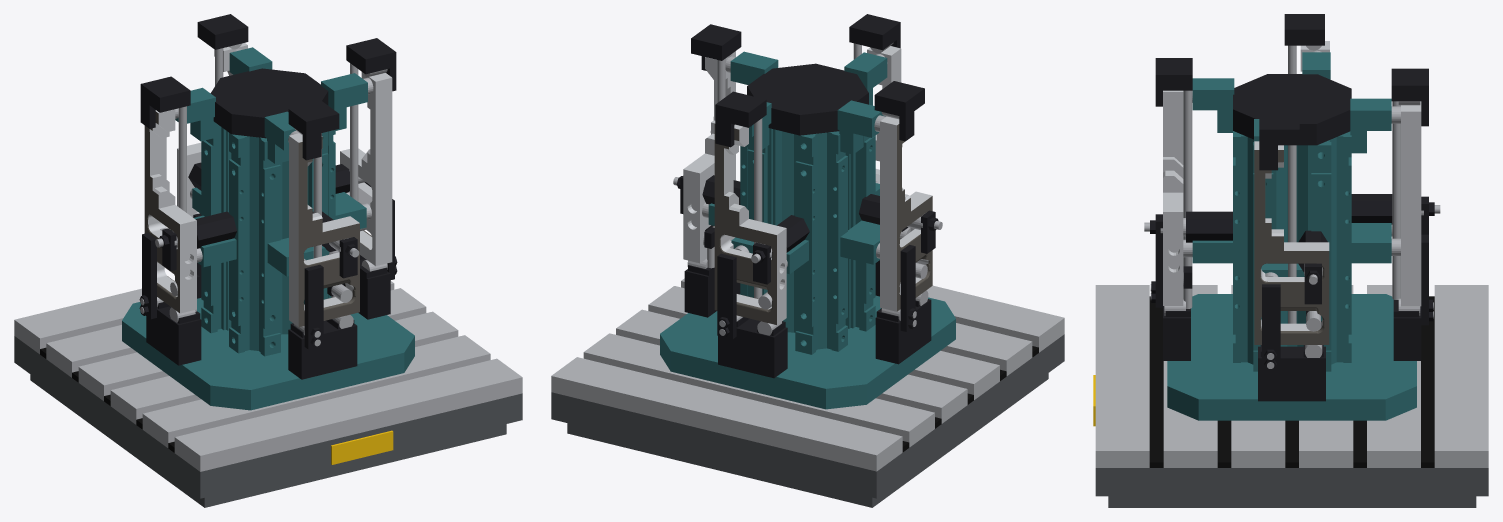
Rendered from pallet_part00_phase20_done.glb.
The picture shows the model from 3 angles, left to right: view 1: azimuth 30°, elevation 25°; view 2: azimuth 150°, elevation 25°; view 3: azimuth 270°, elevation 25°; orthographic projection. The views are drawn at different scales.
Parts seen in each view (by area): view 1: fixture__fx_paint, pallet_body__pb_steel, fixture__fx_oxide, pallet_body__pb_steel_dark, part_2__part_machined, fixture__fx_steel, part_4__part_machined, part_1__part_raw, part_1__part_machined, part_4__part_raw, gripper_jaw_1__fx_oxide, gripper_jaw_7__fx_oxide (+4 smaller); view 2: fixture__fx_paint, pallet_body__pb_steel, fixture__fx_oxide, pallet_body__pb_steel_dark, part_3__part_raw, part_4__part_machined, part_2__part_machined, fixture__fx_steel, part_3__part_machined, part_4__part_raw, gripper_jaw_5__fx_oxide, gripper_jaw_7__fx_oxide (+3 smaller); view 3: fixture__fx_paint, pallet_body__pb_steel, fixture__fx_oxide, pallet_body__pb_steel_dark, pallet_body__pb_rubber, fixture__fx_steel, part_2__part_raw, part_1__part_machined, part_3__part_machined, gripper_jaw_3__fx_oxide, gripper_jaw_5__fx_oxide, gripper_jaw_1__fx_oxide (+2 smaller).
Part boxes in pixels (x1,y1,x2,y2): fixture__fx_paint: (122,47,414,410); pallet_body__pb_steel: (14,280,522,471); fixture__fx_oxide: (139,68,397,379); pallet_body__pb_steel_dark: (14,336,522,507); part_2__part_machined: (340,72,392,266); fixture__fx_steel: (140,48,387,346); part_4__part_machined: (148,109,196,313); part_1__part_raw: (298,137,359,326); part_1__part_machined: (289,133,359,326); part_4__part_raw: (144,111,179,313); gripper_jaw_1__fx_oxide: (288,101,339,160); gripper_jaw_7__fx_oxide: (140,76,190,128); fixture__fx_paint: (660,51,955,409); pallet_body__pb_steel: (551,278,1064,471); fixture__fx_oxide: (676,63,938,378); pallet_body__pb_steel_dark: (551,334,1064,507); part_3__part_raw: (714,124,776,324); part_4__part_machined: (880,116,932,311); part_2__part_machined: (683,51,735,263); fixture__fx_steel: (673,43,942,335); part_3__part_machined: (720,124,786,324); part_4__part_raw: (897,124,932,311); gripper_jaw_5__fx_oxide: (715,91,766,147); gripper_jaw_7__fx_oxide: (874,81,924,141); fixture__fx_paint: (1167,52,1416,420); pallet_body__pb_steel: (1095,285,1488,467); fixture__fx_oxide: (1150,74,1434,401); pallet_body__pb_steel_dark: (1095,468,1488,507); pallet_body__pb_rubber: (1149,296,1434,467); fixture__fx_steel: (1144,45,1440,368); part_2__part_raw: (1254,150,1329,344); part_1__part_machined: (1163,90,1183,305); part_3__part_machined: (1401,101,1421,306); gripper_jaw_3__fx_oxide: (1259,113,1299,170); gripper_jaw_5__fx_oxide: (1391,68,1428,126); gripper_jaw_1__fx_oxide: (1155,58,1192,106).
Bounding box in the file's own units: 0.63 × 0.6341 × 0.634.
